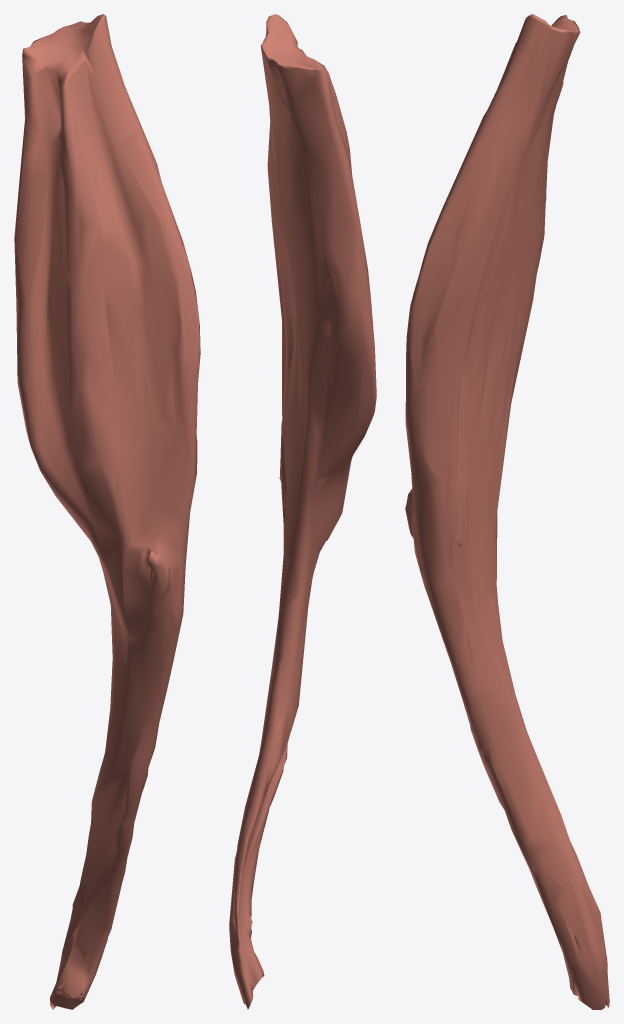
The picture shows the model from 3 angles, left to right: view 1: azimuth 30°, elevation 25°; view 2: azimuth 150°, elevation 25°; view 3: azimuth 270°, elevation 25°; orthographic projection. The views are drawn at different scales.
Visible parts, largest first — view 1: 右侧踇展肌; view 2: 右侧踇展肌; view 3: 右侧踇展肌.
Boxes of the visible parts, left/top/right/bottom form: 右侧踇展肌: left=14, top=14, right=200, bottom=1009; 右侧踇展肌: left=229, top=14, right=376, bottom=1009; 右侧踇展肌: left=405, top=14, right=609, bottom=1009.
Size of the model in its own units: 0.0301 by 0.214 by 0.0397.
